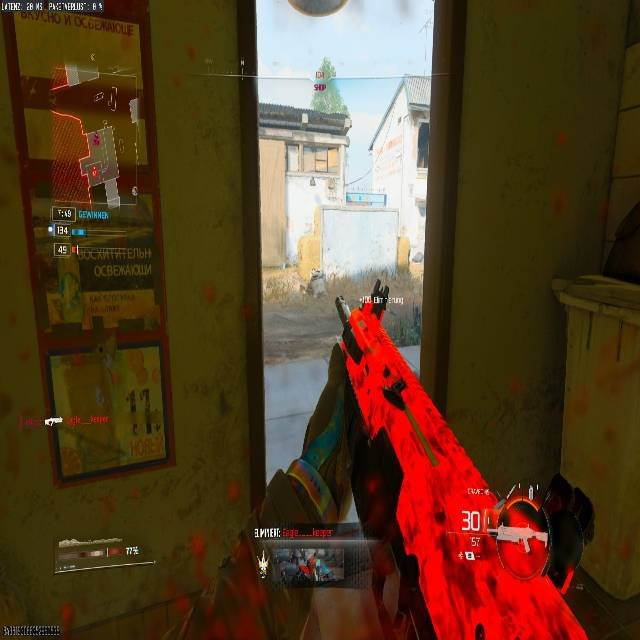player: (305, 271, 321, 301)
